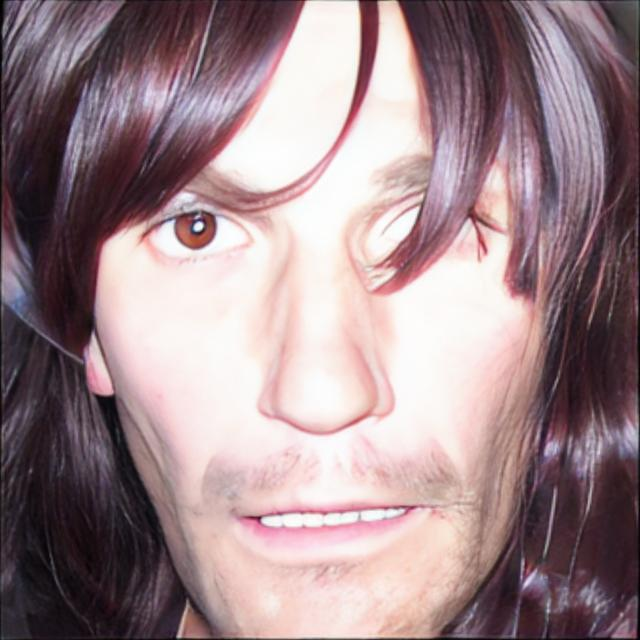surprise: (97, 0, 563, 640)
